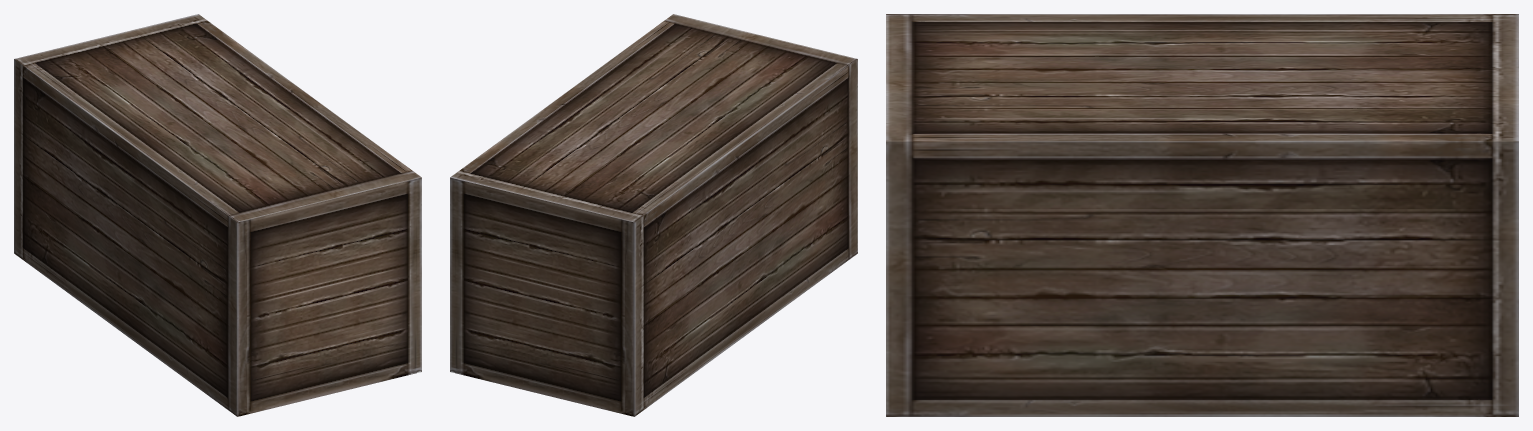
File: GY_xiangzi002.fbx
3 views of the same model, side by side, from view 1: azimuth 30°, elevation 25°; view 2: azimuth 150°, elevation 25°; view 3: azimuth 270°, elevation 25° (orthographic). The views are drawn at different scales.
Parts seen in each view (by area): view 1: GY_xiangzi002; view 2: GY_xiangzi002; view 3: GY_xiangzi002.
Boxes of the visible parts, bbox=[...] form: GY_xiangzi002: bbox=[14, 14, 421, 416]; GY_xiangzi002: bbox=[450, 14, 857, 416]; GY_xiangzi002: bbox=[886, 14, 1518, 416].
Bounding box in the file's own units: 129 × 130 × 271.
